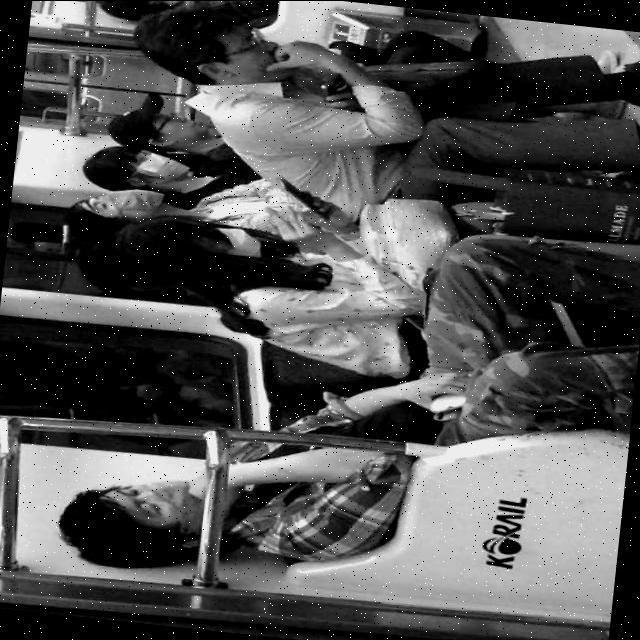no_apron: (392, 372, 484, 412), (266, 204, 323, 252), (272, 32, 322, 82)
